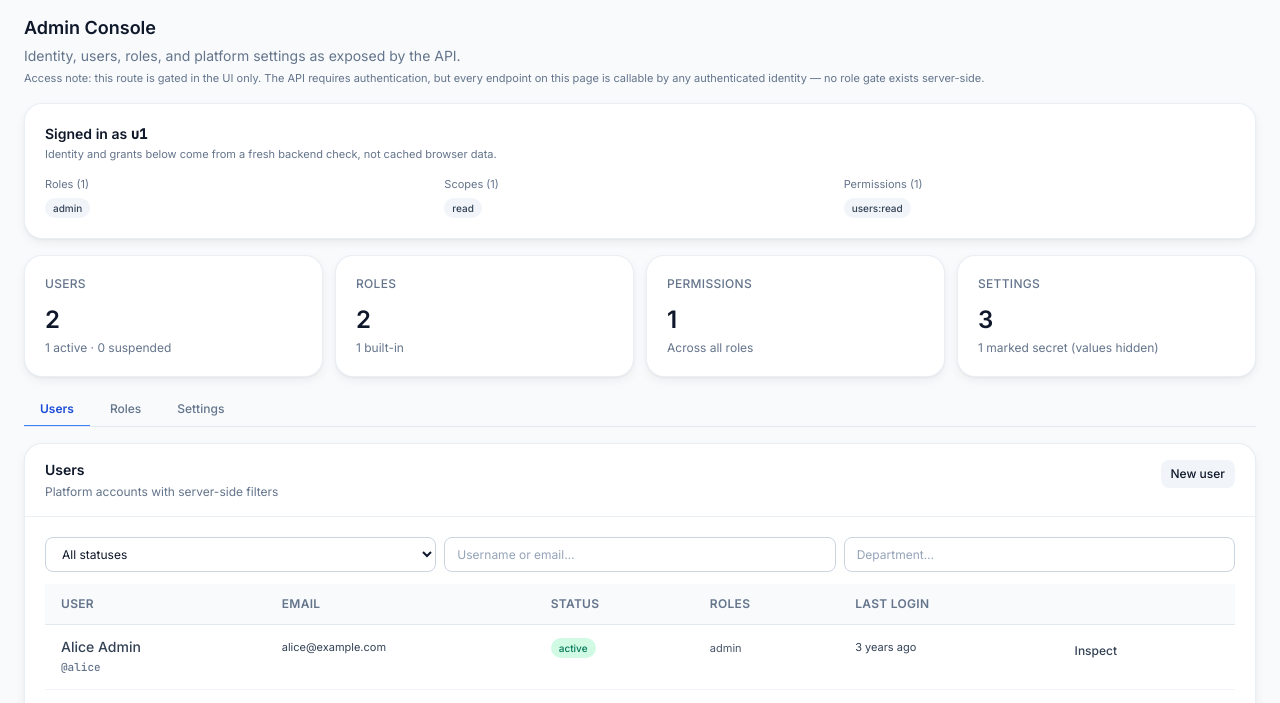
it: users › RBAC check sends permission as a query param and renders the verdict
Expected: the text "Alice Admin" is shown, x1=61 y1=638 x2=141 y2=655
Click the button with aria-label "Inspect user alice". click: (1096, 651)
box: x1=1065 y1=637 x2=1127 y2=665
(page scrolled)
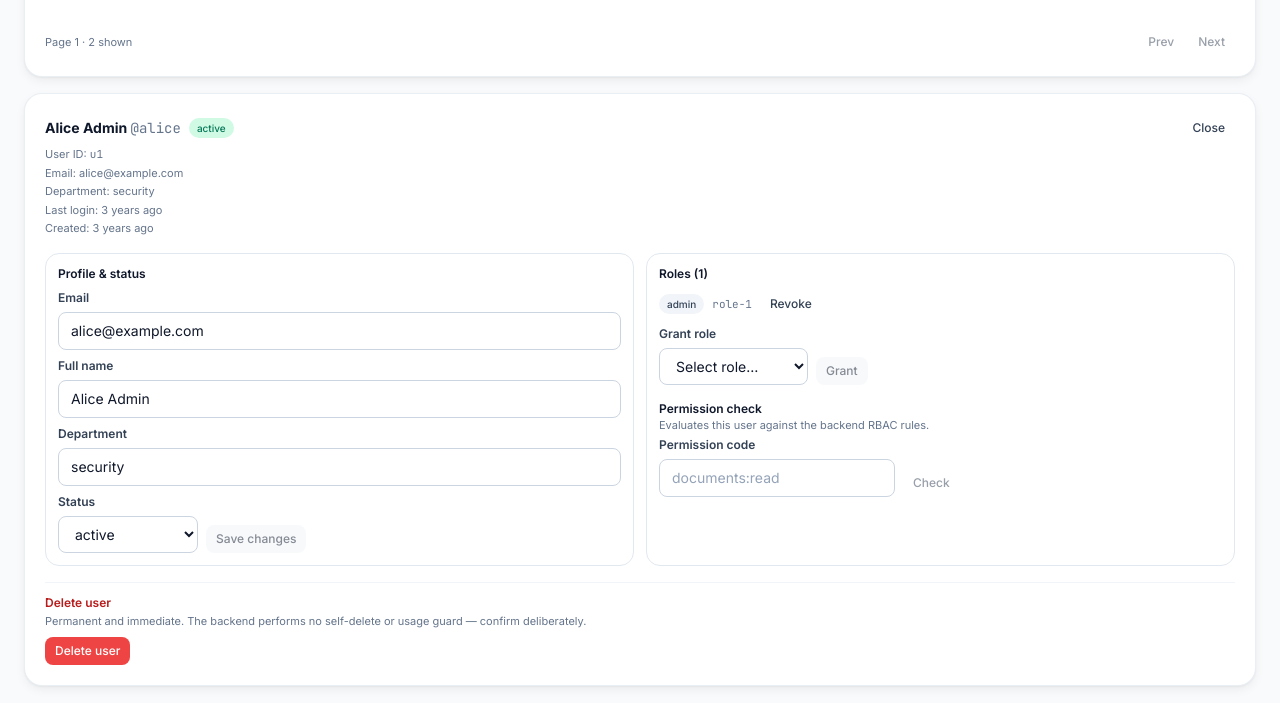
Result: the text "Department: security" is shown at x1=45 y1=184 x2=155 y2=198
Type "users:read" into the field labelled "Permission code". click: (777, 478)
box: x1=659 y1=459 x2=895 y2=497
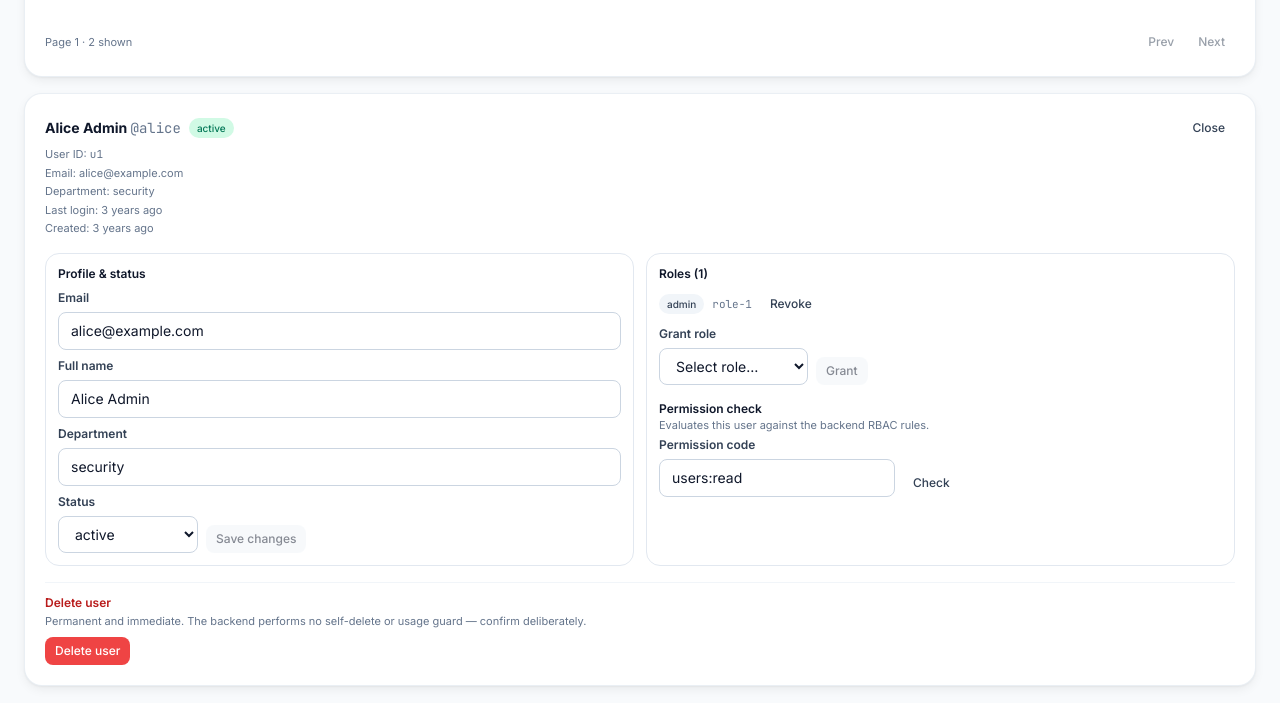
Click the button "Check". click: (931, 483)
box: x1=903 y1=469 x2=960 y2=497
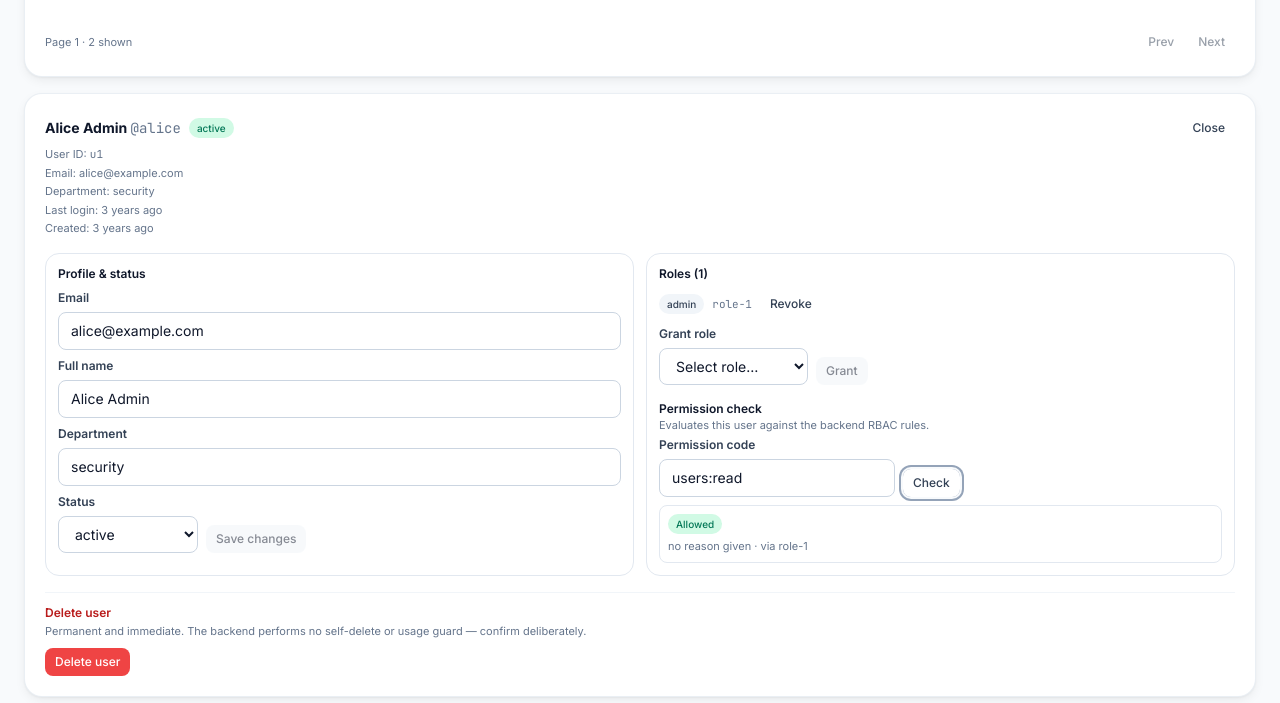
Result: the text "Allowed" is shown at x1=668 y1=514 x2=722 y2=534
Result: the text "no reason given · via role-1" is shown at x1=668 y1=539 x2=808 y2=553
